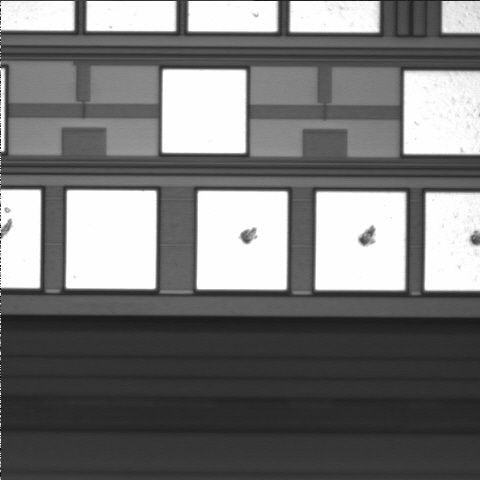pad: (315, 192, 406, 290), (66, 190, 156, 289), (197, 191, 287, 290), (162, 70, 246, 153)
